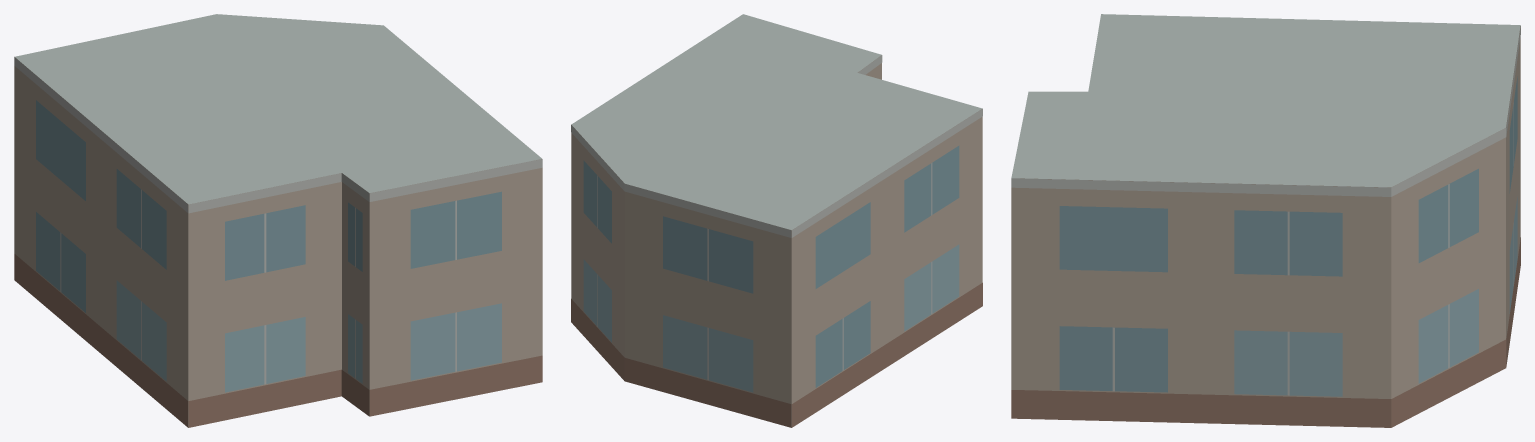
Rendered from survey-upis-32576627.glb.
3 renders of one model, left to right at view 1: azimuth 30°, elevation 25°; view 2: azimuth 150°, elevation 25°; view 3: azimuth 270°, elevation 25°, orthographic. The views are drawn at different scales.
Parts seen in each view (by area): view 1: survey-upis-32576627.tmp; view 2: survey-upis-32576627.tmp; view 3: survey-upis-32576627.tmp.
Boxes of the visible parts, bbox=[...] form: survey-upis-32576627.tmp: bbox=[14, 14, 542, 427]; survey-upis-32576627.tmp: bbox=[571, 14, 982, 427]; survey-upis-32576627.tmp: bbox=[1011, 14, 1520, 427].
Size of the model in its own units: 9.45 by 6.1 by 11.72.
